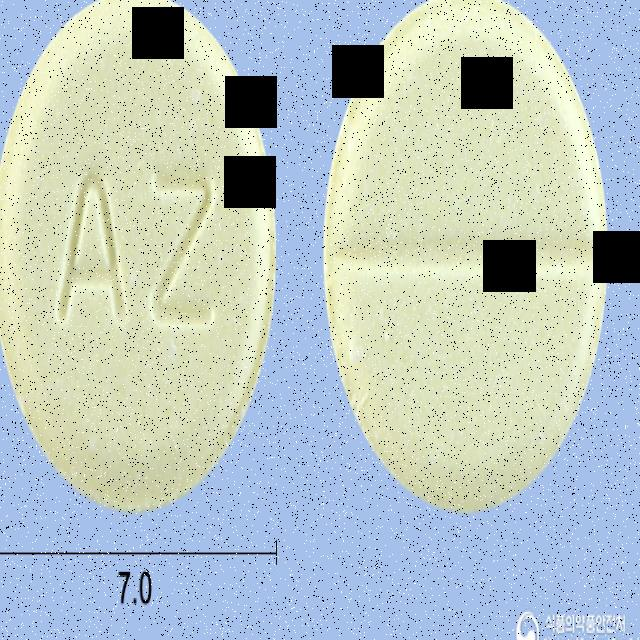Azafrine Tab: (0, 0, 282, 521)
